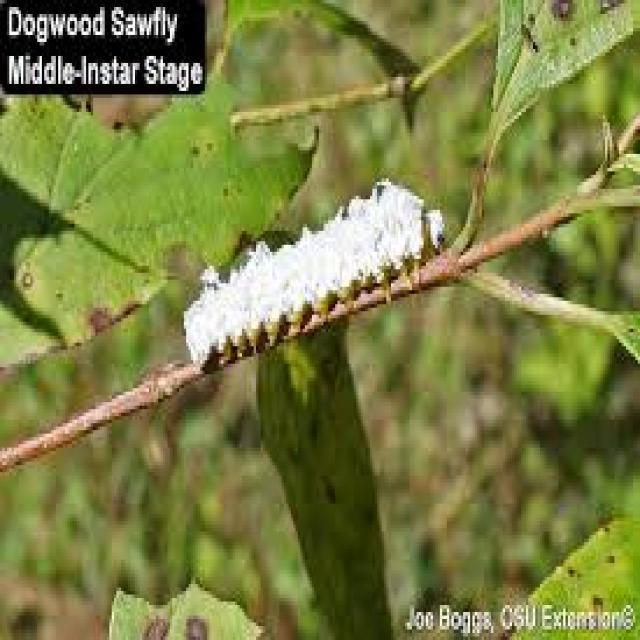Saw Fly: (179, 171, 449, 372)
